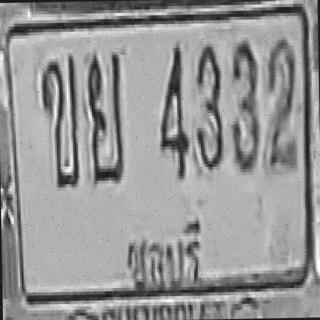A02: (39, 56, 78, 188)
A34: (86, 50, 124, 185)
N02: (264, 37, 297, 169)
N03: (229, 39, 260, 171), (193, 41, 223, 170)
N04: (158, 43, 189, 178)
P13: (121, 215, 206, 296)
